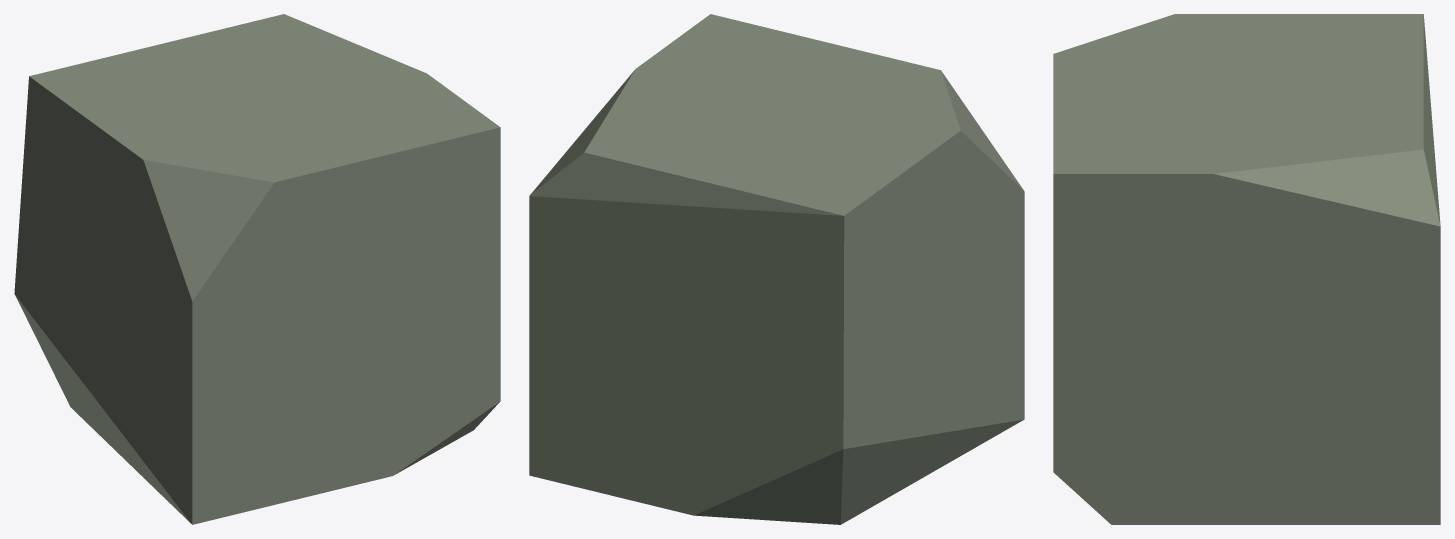
The model's file is pillar_thin_segment_4.fbx.
The picture shows the model from 3 angles, left to right: view 1: azimuth 30°, elevation 25°; view 2: azimuth 150°, elevation 25°; view 3: azimuth 270°, elevation 25°; orthographic projection. The views are drawn at different scales.
Visible parts, largest first — view 1: pillar_thin_segment_4; view 2: pillar_thin_segment_4; view 3: pillar_thin_segment_4.
Boxes of the visible parts, bbox=[...] form: pillar_thin_segment_4: bbox=[14, 14, 500, 524]; pillar_thin_segment_4: bbox=[529, 14, 1024, 524]; pillar_thin_segment_4: bbox=[1053, 14, 1440, 524].
Bounding box in the file's own units: 50 × 50 × 50.
